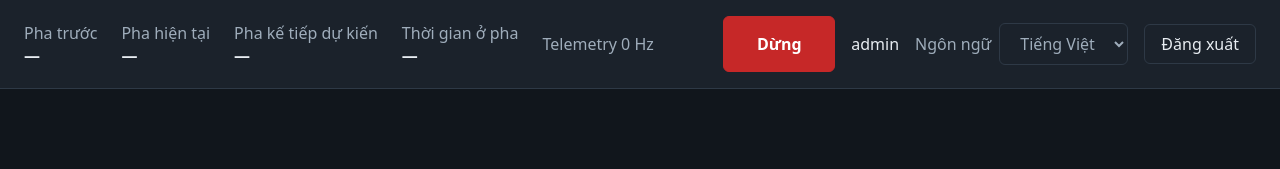
Stop › sends Stop, follows its lifecycle by command_id and shows the result for 2.6 s
Later steps or results of the test are not shown.
Click the button "Dừng": (779, 44) x1=723 y1=16 x2=835 y2=72
Wait 2600 ms
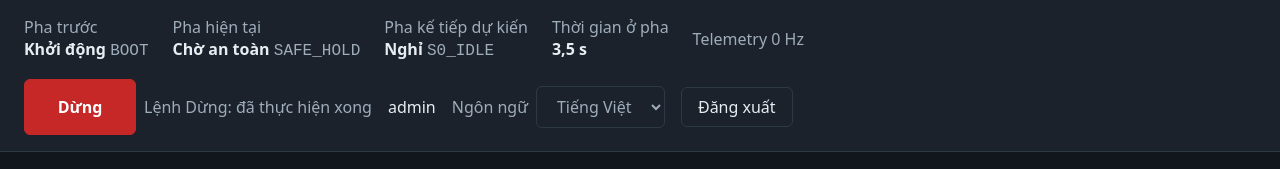
Now the text "Lệnh Dừng: đã thực hiện xong" is shown, box x1=144 y1=96 x2=372 y2=118
